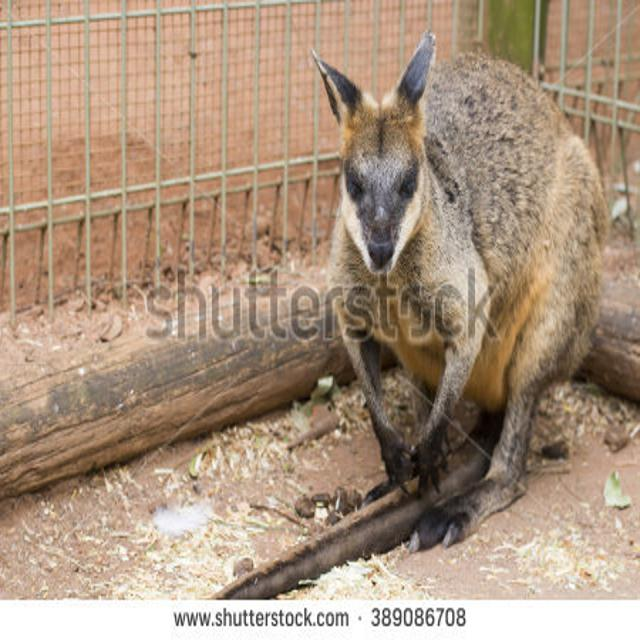kangaroo: (299, 31, 598, 485)
